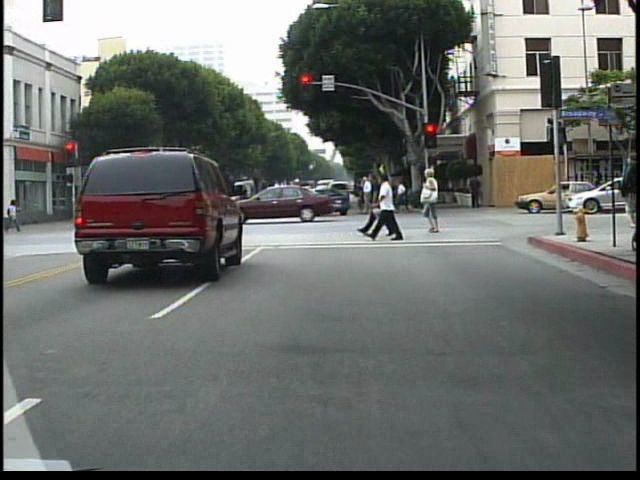person: (372, 172, 407, 244), (420, 170, 452, 235), (364, 172, 387, 239), (359, 173, 380, 220), (468, 168, 488, 209), (287, 175, 305, 220), (146, 187, 162, 232), (125, 189, 142, 231), (395, 175, 412, 214), (348, 178, 366, 212), (6, 197, 22, 232), (2, 200, 16, 235)
